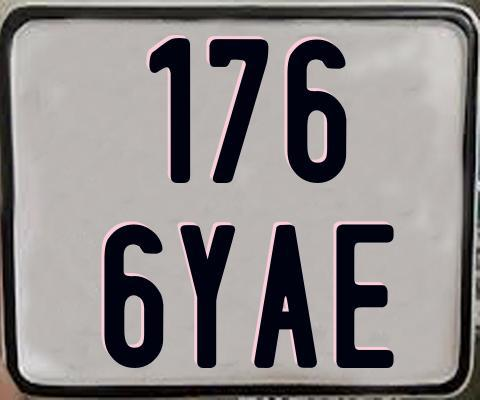1: (146, 38, 192, 187)
6: (102, 221, 168, 371), (284, 38, 344, 187)
7: (208, 36, 268, 184)
A: (252, 223, 316, 367)
E: (335, 224, 394, 373)
Y: (177, 222, 233, 371)
